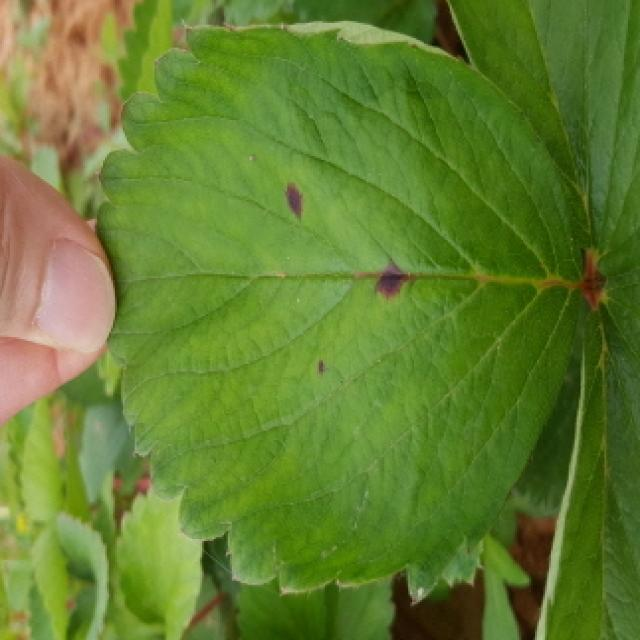Leaf Spot: (95, 22, 581, 607)
